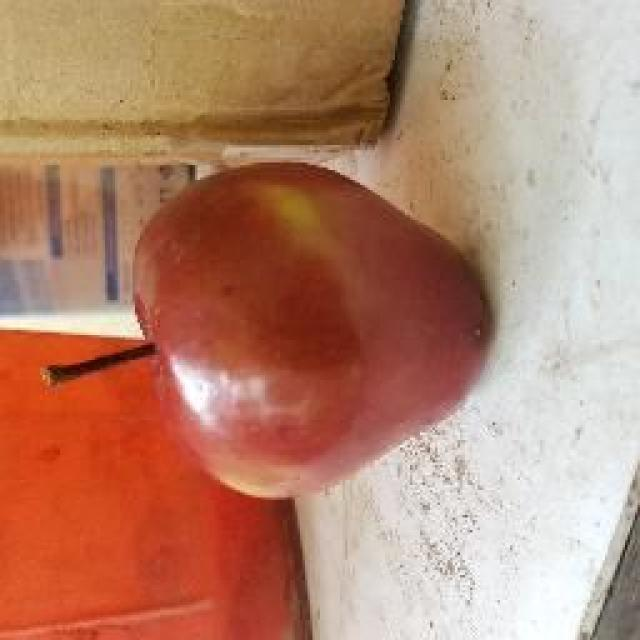Good_Apple: (132, 162, 495, 502)
